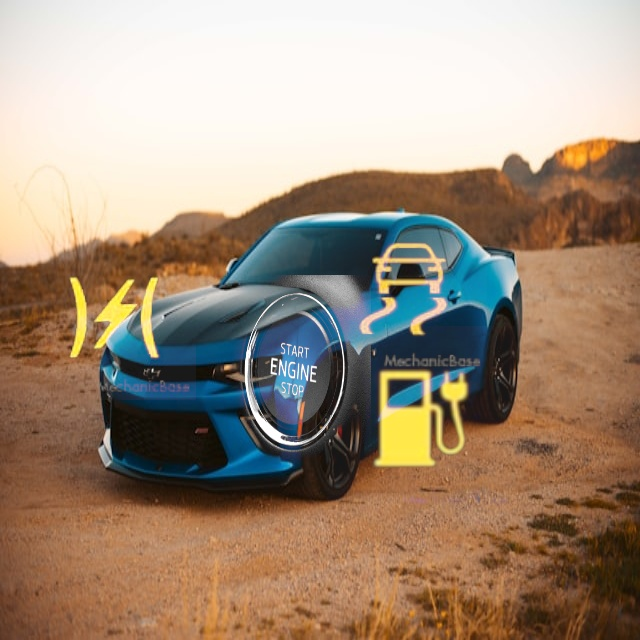symbol: (177, 275, 371, 469), (327, 326, 516, 515), (318, 206, 487, 375), (33, 237, 196, 400)
